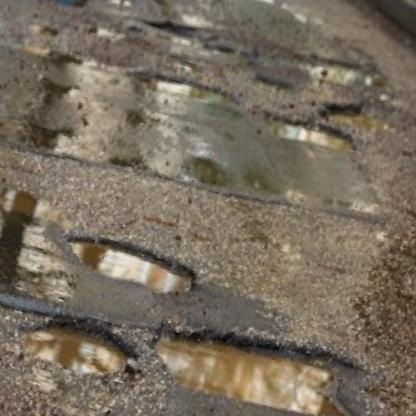pothole: (143, 304, 371, 416), (7, 302, 144, 390), (60, 226, 201, 301), (256, 107, 359, 159), (123, 62, 230, 111), (315, 94, 399, 142), (86, 20, 126, 43), (27, 19, 60, 39), (30, 0, 89, 11), (99, 0, 134, 10)
